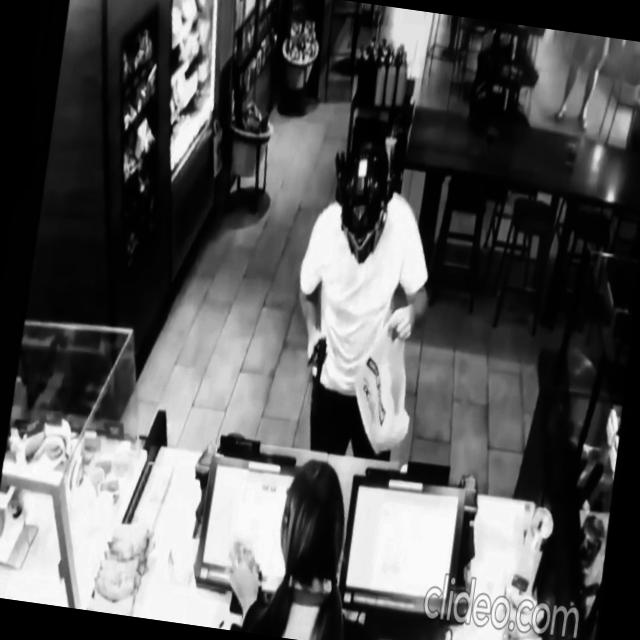gun: (308, 334, 329, 398)
person: (214, 447, 400, 640), (550, 31, 628, 136), (439, 15, 478, 70)
person with a gun: (273, 125, 452, 465)
